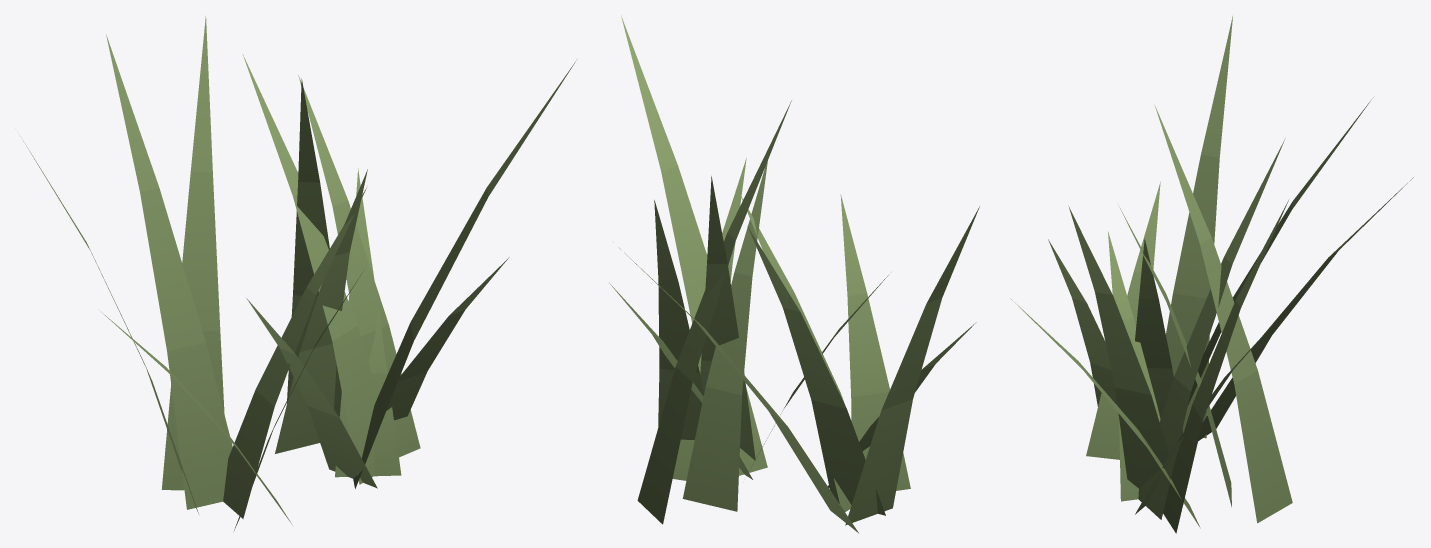
The model's file is grass_3.glb.
3 renders of one model, left to right at view 1: azimuth 30°, elevation 25°; view 2: azimuth 150°, elevation 25°; view 3: azimuth 270°, elevation 25°, orthographic. The views are drawn at different scales.
Visible parts, largest first — view 1: grass_3.001; view 2: grass_3.001; view 3: grass_3.001.
Part boxes in pixels (left/top/right/bottom): grass_3.001: left=20, top=16, right=576, bottom=530; grass_3.001: left=609, top=15, right=979, bottom=533; grass_3.001: left=1010, top=16, right=1413, bottom=533.
Size of the model in its own units: 0.5333 by 0.443 by 0.4387.
